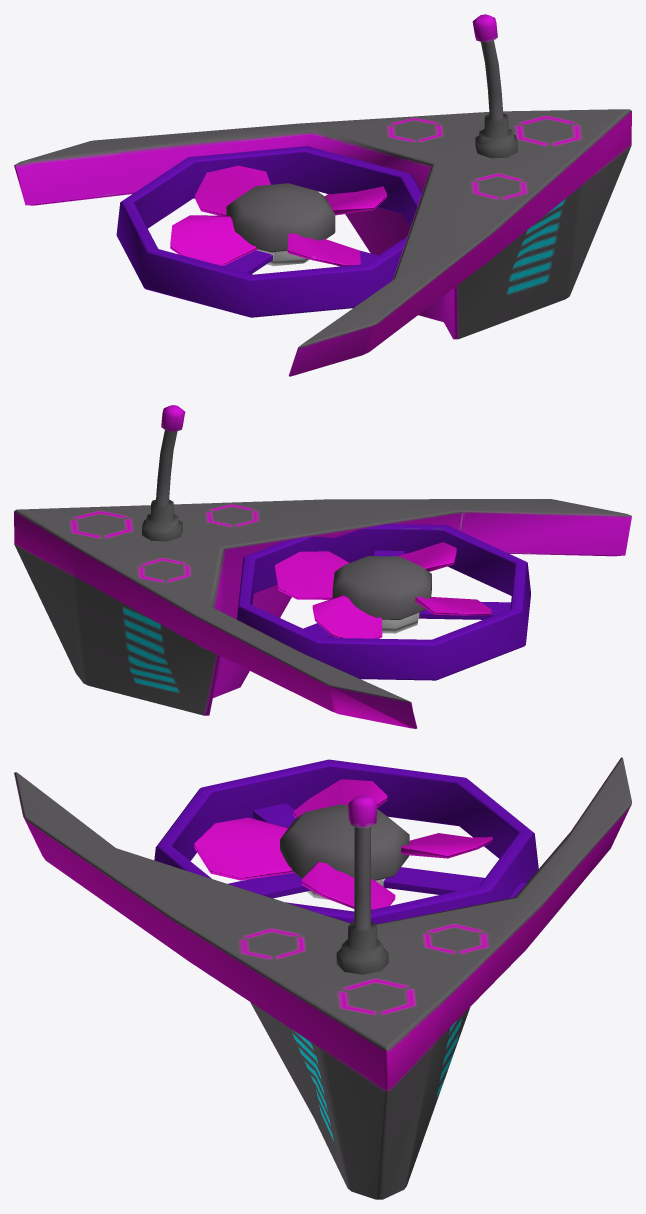
Rendered from SM_Dron_001.fbx.
3 views of the same model, one above another, from view 1: azimuth 30°, elevation 25°; view 2: azimuth 150°, elevation 25°; view 3: azimuth 270°, elevation 25° (orthographic). The views are drawn at different scales.
Visible parts, largest first — view 1: SM_Dron_001; view 2: SM_Dron_001; view 3: SM_Dron_001.
Boxes of the visible parts, left/top/right/bottom form: SM_Dron_001: left=14, top=14, right=631, bottom=376; SM_Dron_001: left=14, top=405, right=631, bottom=728; SM_Dron_001: left=14, top=757, right=631, bottom=1199.
Bounding box in the file's own units: 48.88 × 43.06 × 26.95.
1 material, 1 textured.
